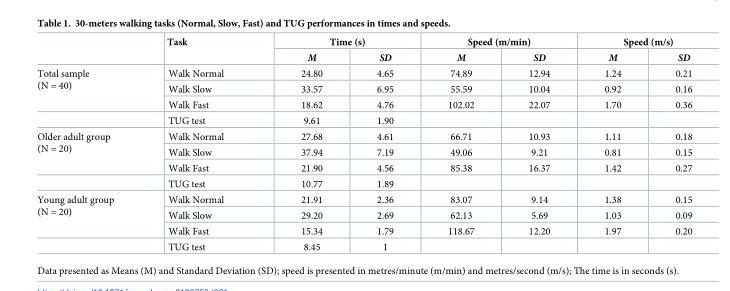table: (36, 36, 691, 251)
table column: (139, 36, 261, 251), (36, 36, 139, 251), (261, 36, 349, 251), (420, 36, 500, 251), (500, 36, 576, 251), (349, 36, 420, 251), (576, 36, 647, 251), (647, 36, 691, 251)
table column header: (36, 36, 691, 65)
table row: (36, 48, 691, 65), (36, 65, 691, 81), (36, 96, 691, 112), (36, 112, 691, 128), (36, 128, 691, 144), (36, 144, 691, 160), (36, 175, 691, 191), (36, 191, 691, 207), (36, 207, 691, 223), (36, 81, 691, 96), (36, 160, 691, 175), (36, 223, 691, 238), (36, 238, 691, 251), (36, 36, 691, 48)
table spanning cell: (36, 65, 139, 128), (36, 128, 139, 191), (36, 191, 139, 251), (139, 36, 261, 65), (261, 36, 420, 48), (420, 36, 576, 48), (576, 36, 691, 48)
